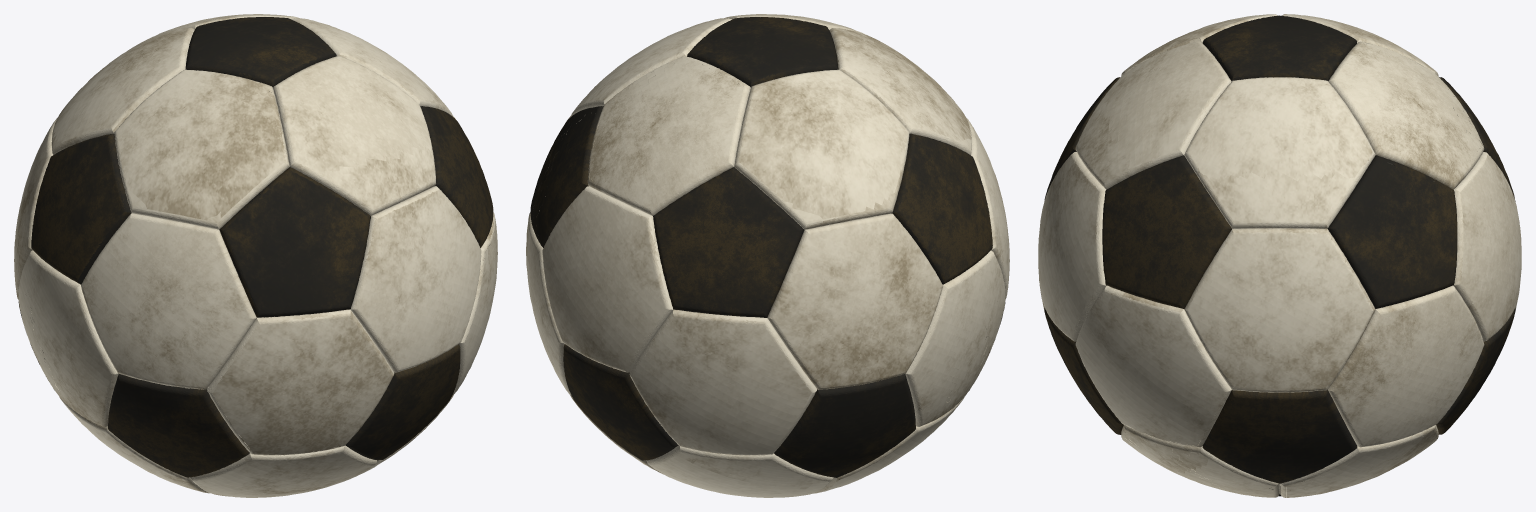
File: soccer_ball.glb
The picture shows the model from 3 angles, left to right: view 1: azimuth 30°, elevation 25°; view 2: azimuth 150°, elevation 25°; view 3: azimuth 270°, elevation 25°; orthographic projection.
Visible parts, largest first — view 1: Object_3, Object_8, Object_9, Object_6, Object_5, Object_4, Object_7, Object_2; view 2: Object_2, Object_8, Object_5, Object_9, Object_7, Object_6, Object_3, Object_4; view 3: Object_6, Object_4, Object_2, Object_3, Object_5, Object_9, Object_8, Object_7.
Part boxes in pixels (x1=…): Object_3: x1=81, y1=14, x2=481, y2=473; Object_8: x1=31, y1=133, x2=390, y2=497; Object_9: x1=51, y1=28, x2=493, y2=455; Object_6: x1=18, y1=17, x2=497, y2=426; Object_5: x1=18, y1=54, x2=492, y2=390; Object_4: x1=273, y1=56, x2=493, y2=474; Object_7: x1=25, y1=86, x2=495, y2=493; Object_2: x1=14, y1=15, x2=299, y2=299; Object_2: x1=526, y1=56, x2=942, y2=394; Object_8: x1=530, y1=106, x2=992, y2=455; Object_5: x1=563, y1=17, x2=971, y2=477; Object_9: x1=734, y1=69, x2=909, y2=229; Object_7: x1=530, y1=28, x2=1005, y2=493; Object_6: x1=571, y1=17, x2=1005, y2=426; Object_3: x1=589, y1=59, x2=1009, y2=299; Object_4: x1=542, y1=14, x2=870, y2=497; Object_6: x1=1076, y1=15, x2=1375, y2=496; Object_4: x1=1075, y1=41, x2=1438, y2=497; Object_2: x1=1328, y1=41, x2=1521, y2=447; Object_3: x1=1038, y1=43, x2=1482, y2=497; Object_5: x1=1121, y1=14, x2=1515, y2=497; Object_9: x1=1038, y1=14, x2=1438, y2=309; Object_8: x1=1039, y1=155, x2=1521, y2=309; Object_7: x1=1075, y1=38, x2=1515, y2=496.
Size of the model in its own units: 1.03 by 1.03 by 1.03.
1 material, 1 textured.
